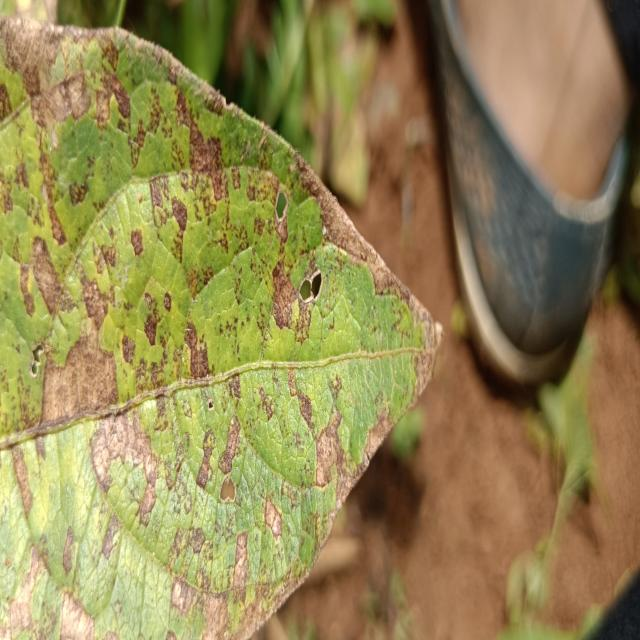Black gram_leaf spot: (0, 9, 450, 640)
